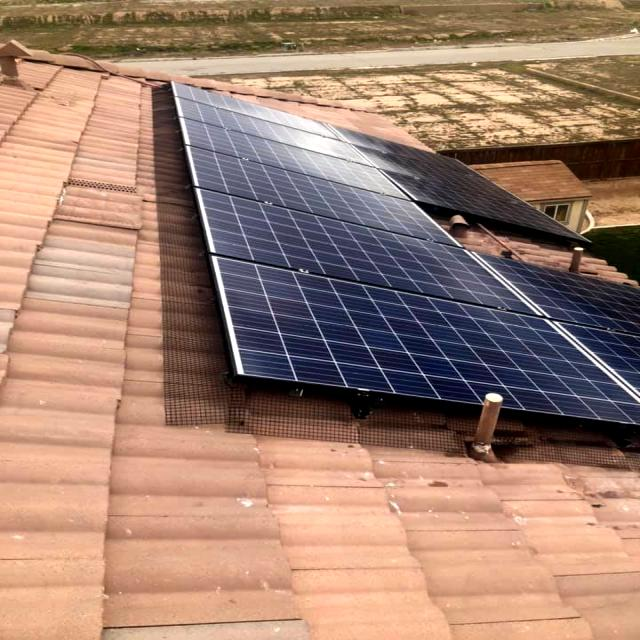crack: (196, 248, 640, 452), (167, 168, 558, 321), (160, 140, 516, 246), (156, 114, 444, 209)
